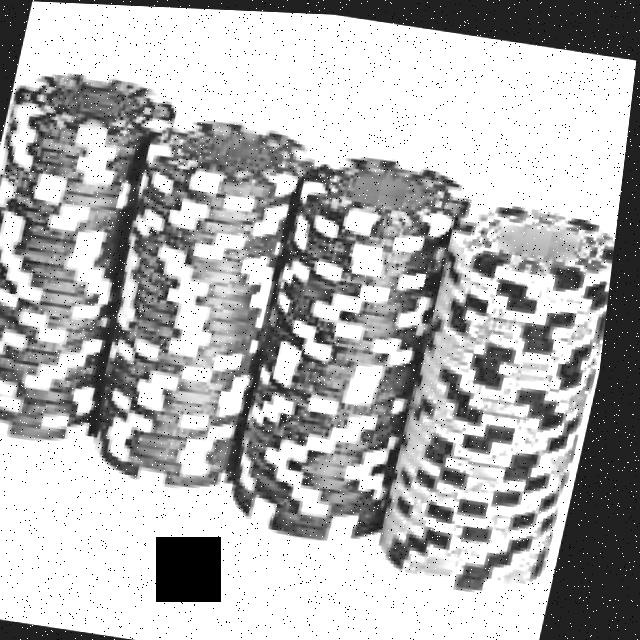Chip: (380, 168, 626, 608), (230, 131, 485, 550), (85, 100, 339, 502), (0, 54, 196, 452)
